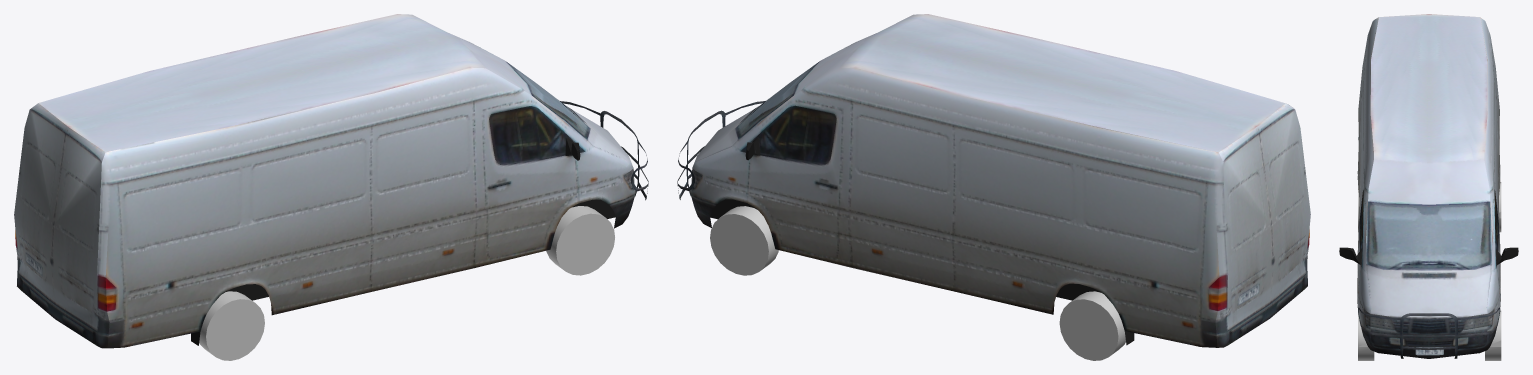
Rendered from ban 1 low.FBX.
The picture shows the model from 3 angles, left to right: view 1: azimuth 30°, elevation 25°; view 2: azimuth 150°, elevation 25°; view 3: azimuth 270°, elevation 25°; orthographic projection. The views are drawn at different scales.
Visible parts, largest first — view 1: 16car001, Object007, Object008; view 2: 16car001, Object005, Object006; view 3: 16car001, Object005, Object007.
Part boxes in pixels (x1,y1,x2,y2): 16car001: (14, 14, 648, 348); Object007: (546, 206, 614, 275); Object008: (199, 291, 264, 360); 16car001: (677, 14, 1310, 347); Object005: (710, 206, 778, 275); Object006: (1059, 291, 1125, 360); 16car001: (1339, 14, 1518, 358); Object005: (1485, 310, 1501, 360); Object007: (1358, 313, 1374, 360).
Size of the model in its own units: 6.38 by 2.43 by 2.3.
